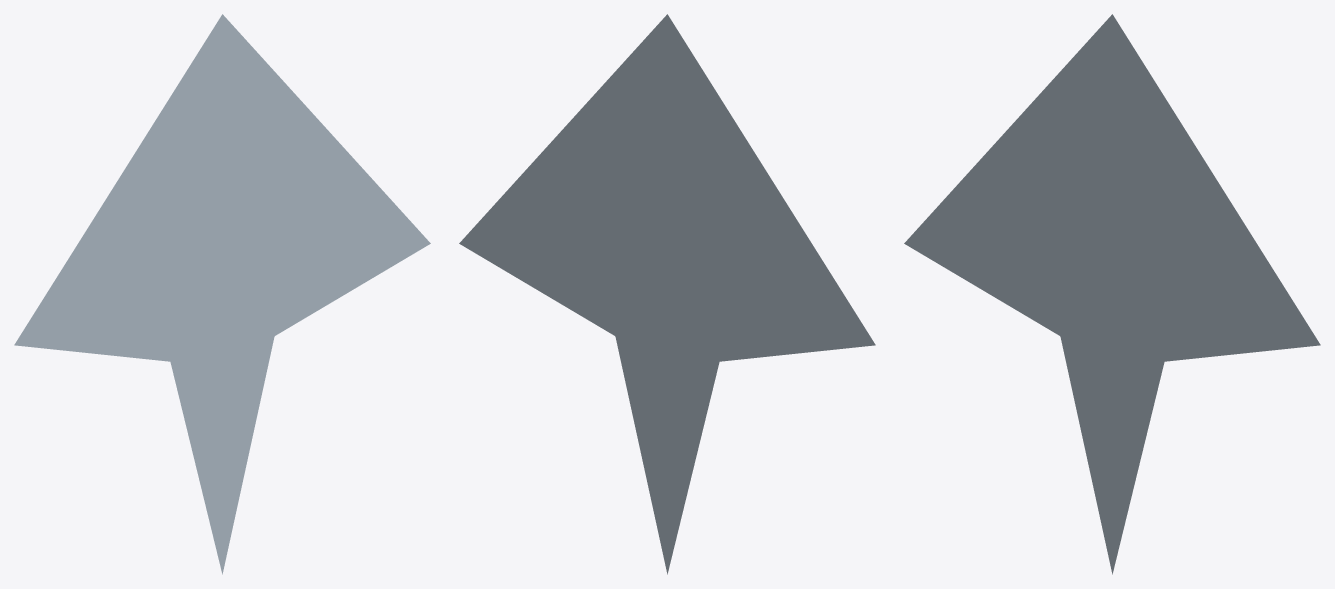
File: Mona_AstralBubbleOmenState_Both_AstralStar.fbx
The picture shows the model from 3 angles, left to right: view 1: azimuth 30°, elevation 25°; view 2: azimuth 150°, elevation 25°; view 3: azimuth 330°, elevation 25°; orthographic projection.
Visible parts, largest first — view 1: PART_SmallFourPointAstralStar; view 2: PART_SmallFourPointAstralStar; view 3: PART_SmallFourPointAstralStar.
Part boxes in pixels (bbox=[...]): PART_SmallFourPointAstralStar: bbox=[14, 14, 430, 574]; PART_SmallFourPointAstralStar: bbox=[459, 14, 875, 574]; PART_SmallFourPointAstralStar: bbox=[904, 14, 1320, 574].
Bounding box in the file's own units: 28 × 36 × 5.87e-06.
